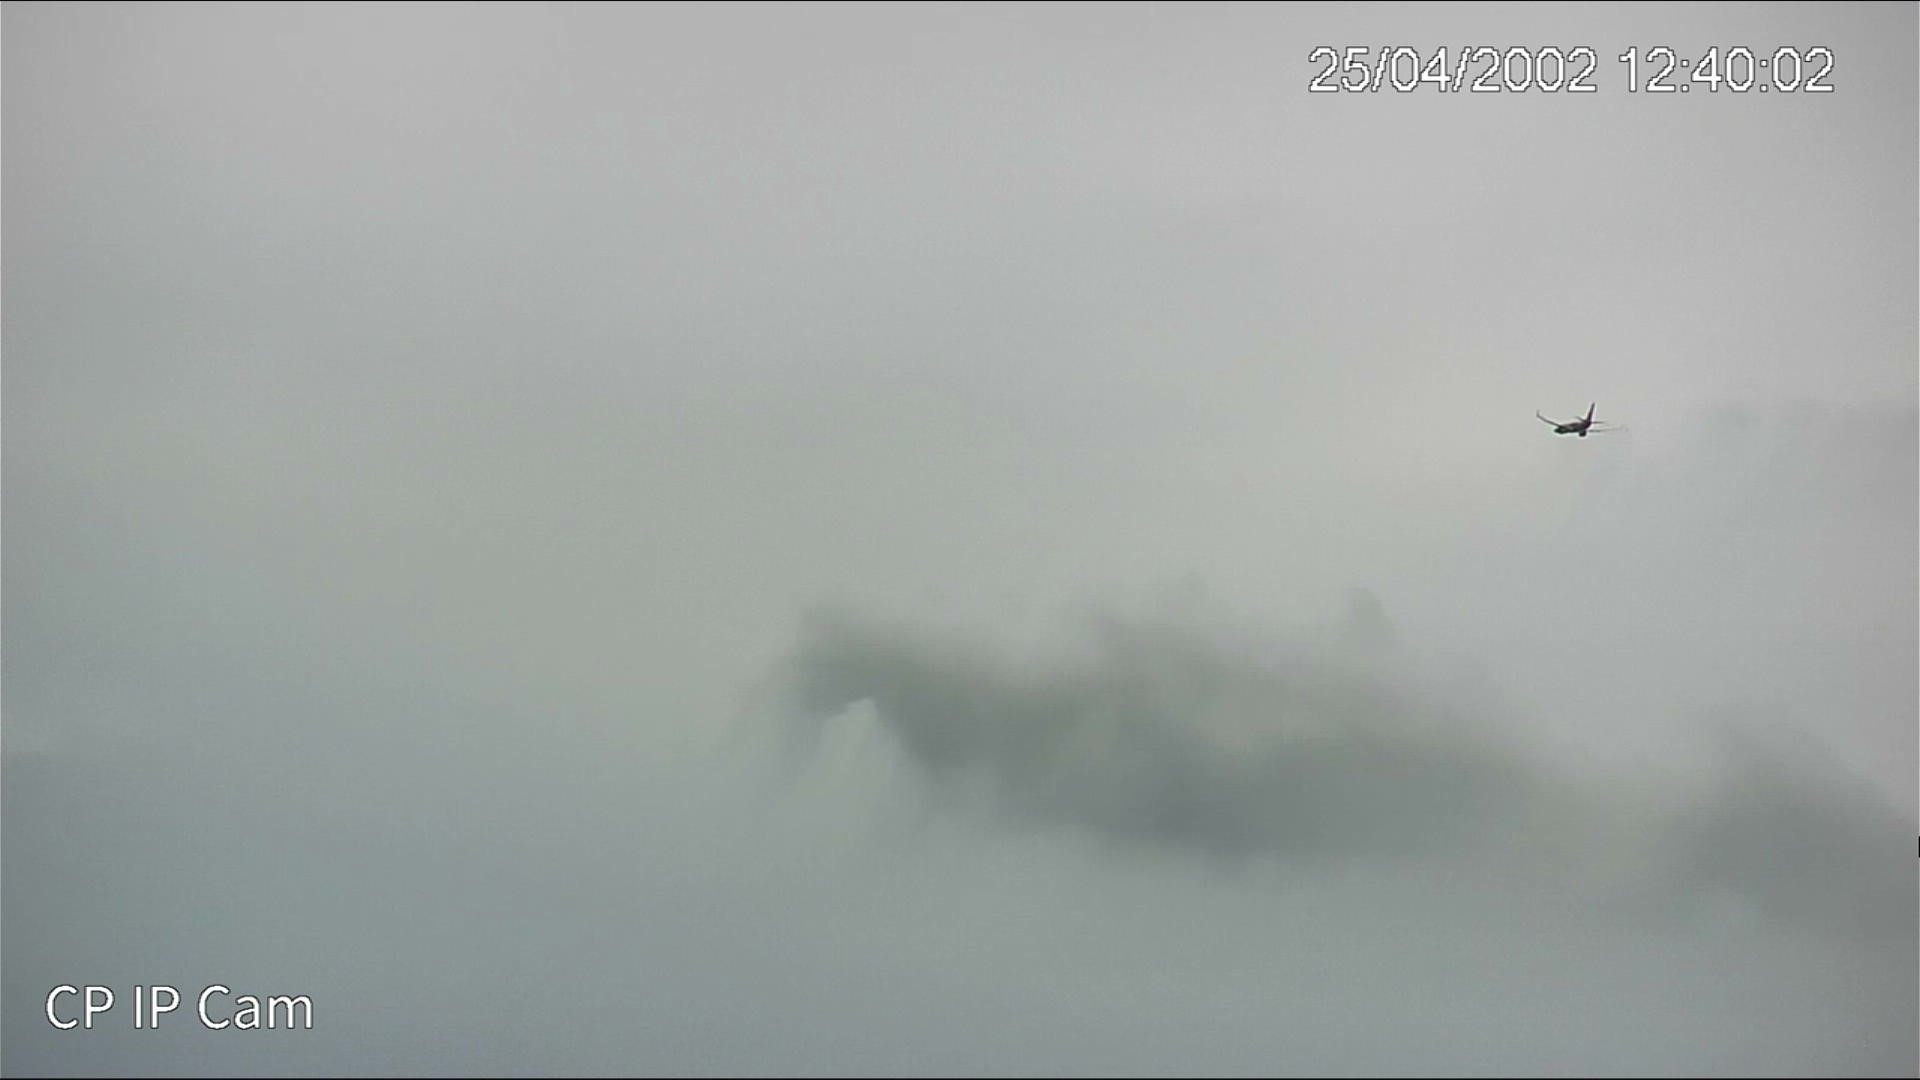SU_30: (1536, 404, 1607, 436)
